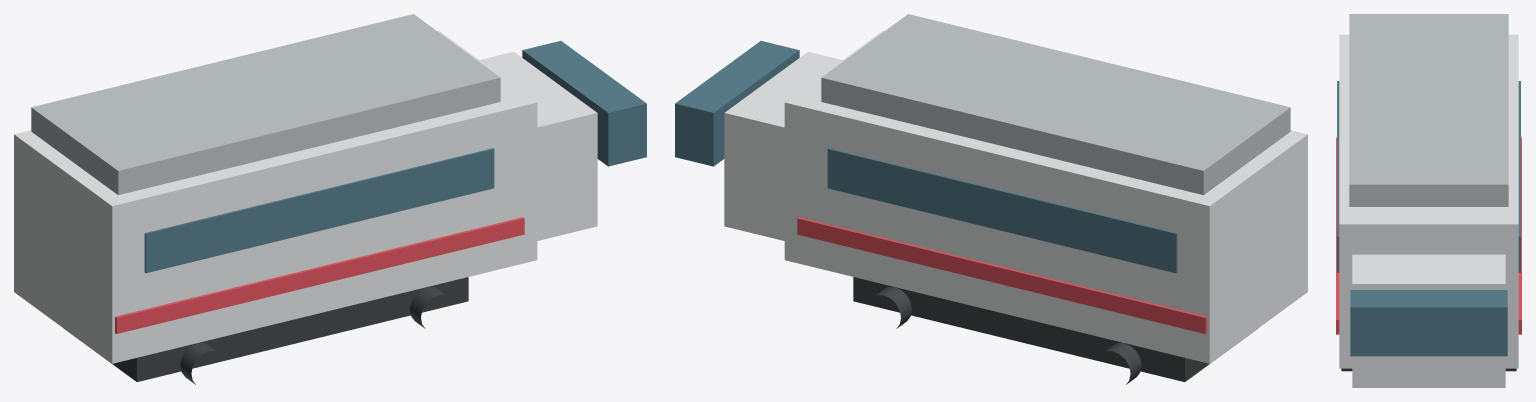
3 renders of one model, left to right at view 1: azimuth 30°, elevation 25°; view 2: azimuth 150°, elevation 25°; view 3: azimuth 270°, elevation 25°, orthographic. The views are drawn at different scales.
Visible parts, largest first — view 1: body_shell, roof, window_band, front_nose, undercarriage, livery_stripe, front_glass, bogie_front_0, bogie_front_1; view 2: body_shell, roof, window_band, front_nose, undercarriage, livery_stripe, front_glass, bogie_back_0, bogie_back_1; view 3: roof, body_shell, front_glass, front_nose, window_band, livery_stripe.
Boxes of the visible parts, x1,y1,x2,y2 form: body_shell: (14, 30, 537, 363); roof: (31, 14, 500, 195); window_band: (144, 148, 494, 273); front_nose: (479, 51, 597, 240); undercarriage: (65, 277, 468, 381); livery_stripe: (115, 217, 524, 333); front_glass: (522, 41, 646, 166); bogie_front_0: (180, 343, 220, 384); bogie_front_1: (409, 287, 449, 328); body_shell: (784, 30, 1307, 363); roof: (821, 14, 1290, 195); window_band: (827, 148, 1177, 273); front_nose: (724, 51, 842, 240); undercarriage: (853, 277, 1256, 381); livery_stripe: (797, 217, 1206, 333); front_glass: (675, 41, 799, 166); bogie_back_0: (1101, 343, 1141, 384); bogie_back_1: (872, 287, 912, 328); roof: (1349, 14, 1508, 206); body_shell: (1339, 34, 1518, 368); front_glass: (1350, 290, 1507, 356); front_nose: (1352, 254, 1505, 387); window_band: (1337, 81, 1520, 272); livery_stripe: (1336, 137, 1521, 334).
Bounding box in the file's own units: 2.8 × 1.16 × 0.91.
